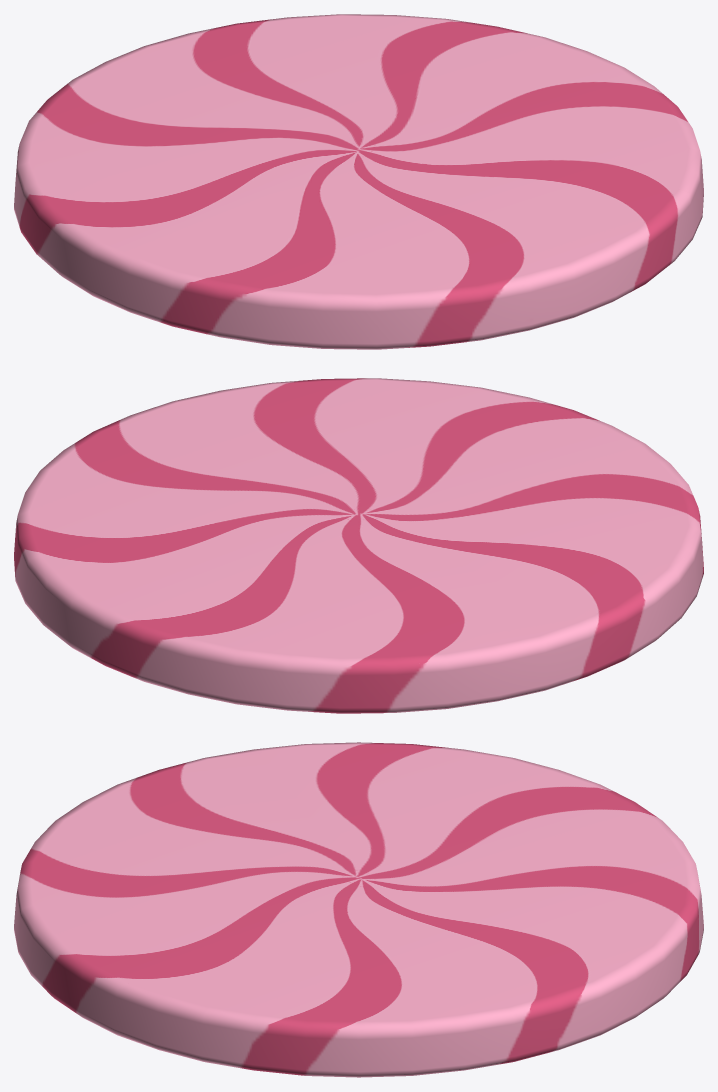
Rendered from Candy2_FBX+Texture.fbx.
3 views of the same model, one above another, from view 1: azimuth 30°, elevation 25°; view 2: azimuth 150°, elevation 25°; view 3: azimuth 270°, elevation 25° (orthographic).
Visible parts, largest first — view 1: pCylinder2; view 2: pCylinder2; view 3: pCylinder2.
Boxes of the visible parts, <box> form: pCylinder2: <box>14,14,703,349</box>; pCylinder2: <box>14,378,703,713</box>; pCylinder2: <box>14,742,703,1077</box>.
Size of the model in its own units: 295 by 30 by 295.
Materials: 1 (1 with a texture image).
